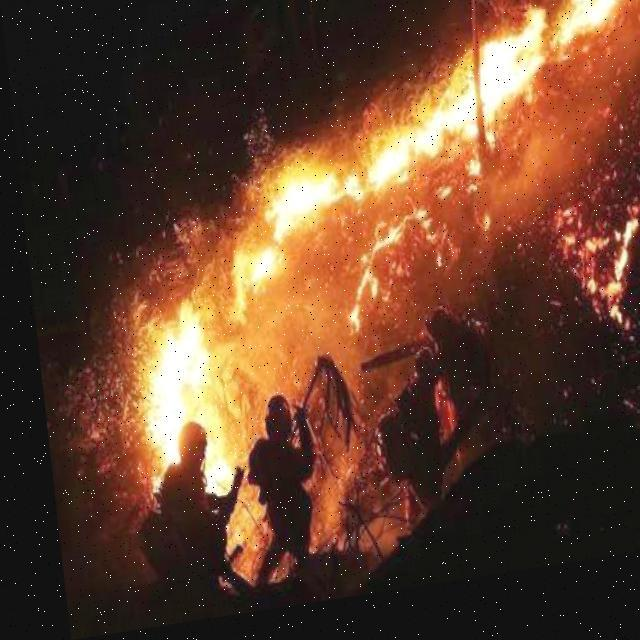Fire: (181, 0, 639, 383), (120, 303, 230, 508)
